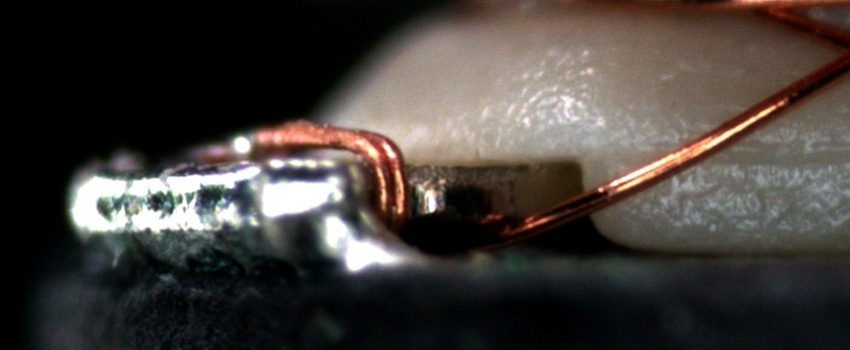CL: (828, 26, 850, 74)
DL: (658, 122, 849, 178)
TE: (221, 112, 415, 227)
